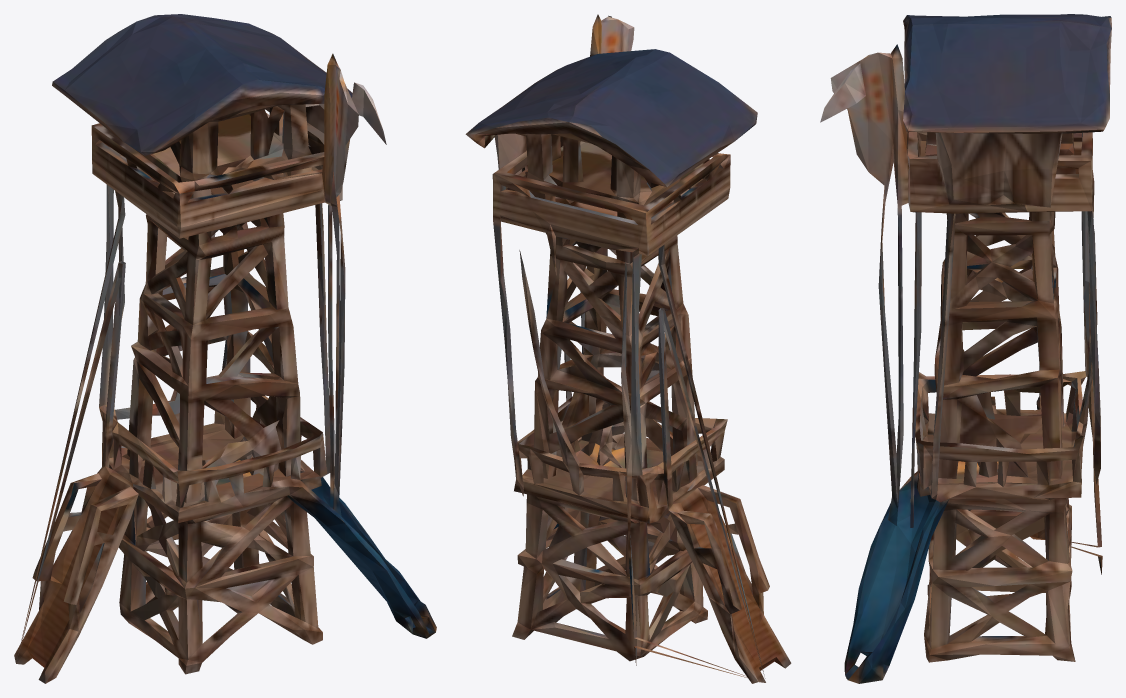
The model's file is zip_tower.glb.
The picture shows the model from 3 angles, left to right: view 1: azimuth 30°, elevation 25°; view 2: azimuth 150°, elevation 25°; view 3: azimuth 270°, elevation 25°; orthographic projection. The views are drawn at different scales.
Visible parts, largest first — view 1: textured_mesh.obj; view 2: textured_mesh.obj; view 3: textured_mesh.obj.
Boxes of the visible parts, <box> form: textured_mesh.obj: <box>14,14,436,683</box>; textured_mesh.obj: <box>465,14,791,683</box>; textured_mesh.obj: <box>820,14,1111,683</box>.
Bounding box in the file's own units: 2.61 × 4.5 × 1.93.
1 material, 1 textured.
